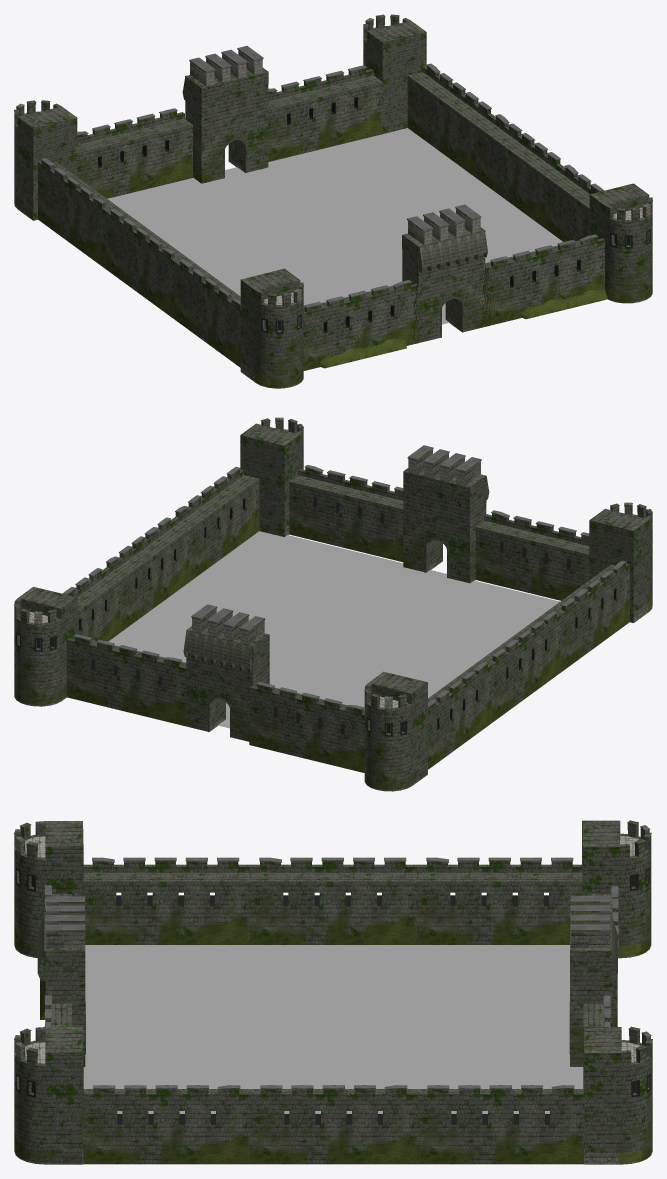
Rendered from castillo_1.glb.
The picture shows the model from 3 angles, top to bottom: view 1: azimuth 30°, elevation 25°; view 2: azimuth 150°, elevation 25°; view 3: azimuth 270°, elevation 25°; orthographic projection. The views are drawn at different scales.
Parts seen in each view (by area): view 1: Castle; view 2: Castle; view 3: Castle.
Part boxes in pixels (x1=…): Castle: x1=14, y1=14, x2=652, y2=388; Castle: x1=14, y1=417, x2=652, y2=791; Castle: x1=14, y1=820, x2=652, y2=1164.
Size of the model in its own units: 4787 by 1296 by 5552.
1 material, 1 textured.
